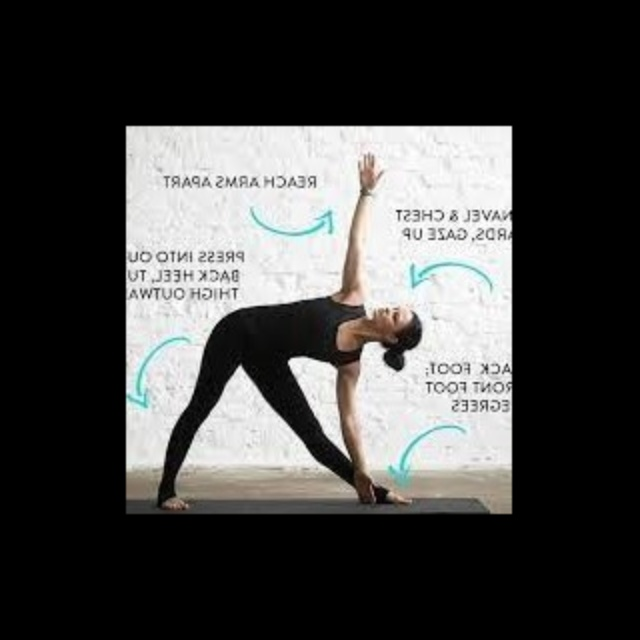Triangle_Pose: (150, 151, 426, 512)
